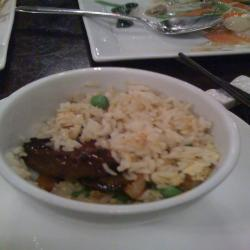rice: (32, 81, 214, 187)
